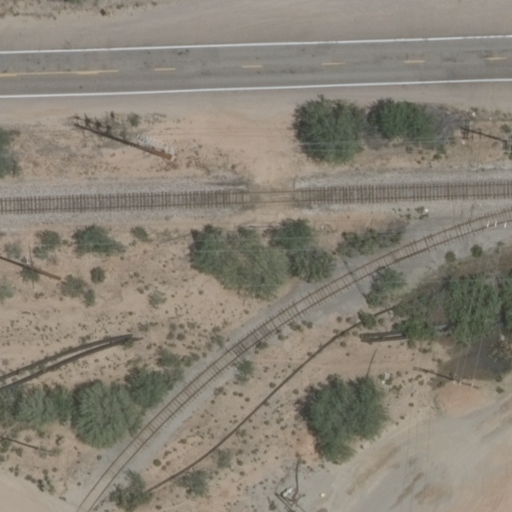DT: (75, 120, 173, 162), (1, 249, 56, 282), (452, 125, 509, 148)
